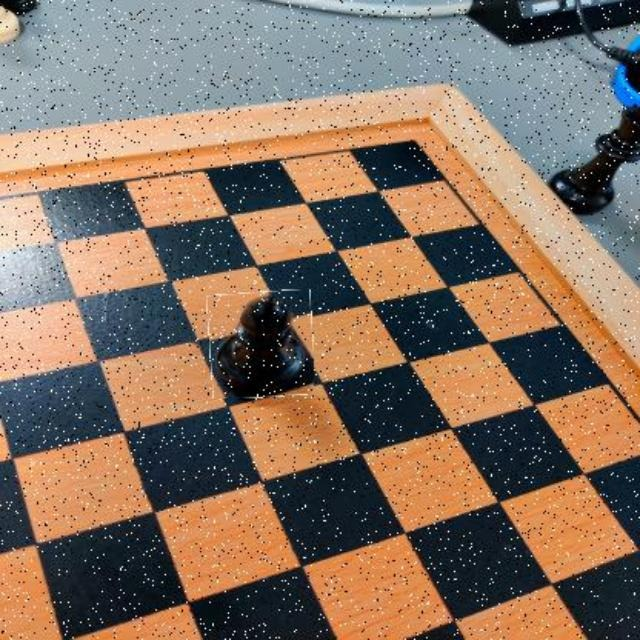black-bishop: (208, 291, 314, 398)
